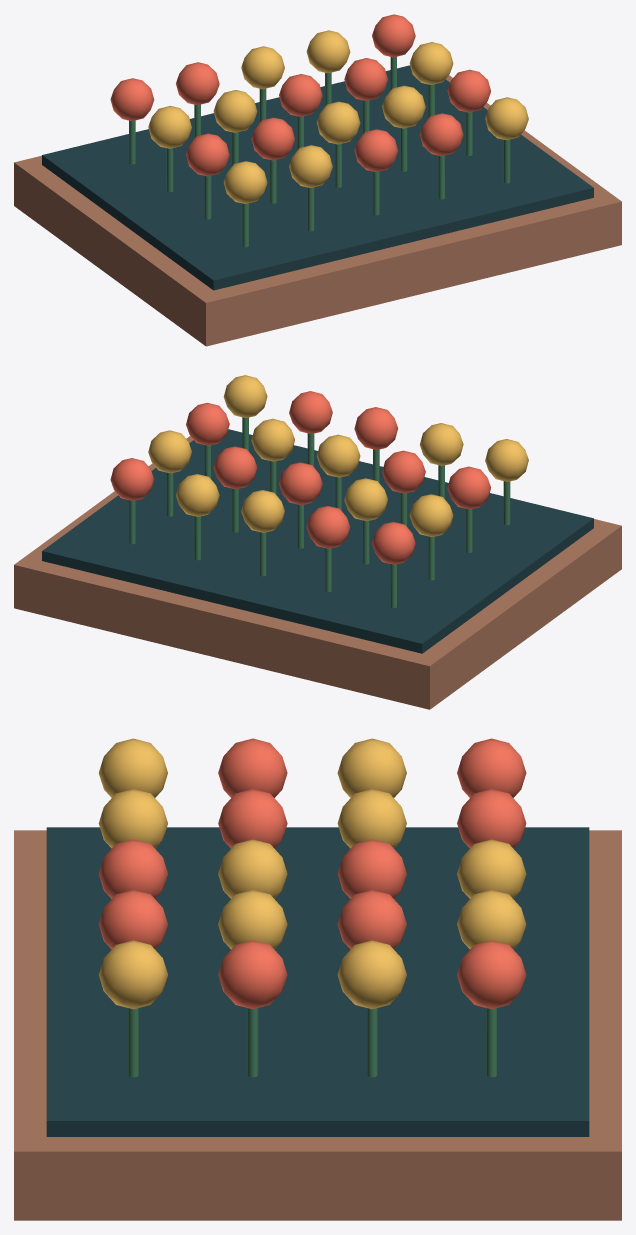
Rendered from deco_flowerbed.glb.
The picture shows the model from 3 angles, top to bottom: view 1: azimuth 30°, elevation 25°; view 2: azimuth 150°, elevation 25°; view 3: azimuth 270°, elevation 25°; orthographic projection. The views are drawn at different scales.
Visible parts, largest first — view 1: deco_flowerbed; view 2: deco_flowerbed; view 3: deco_flowerbed.
Part boxes in pixels (x1=…): deco_flowerbed: x1=14, y1=14, x2=621, y2=346; deco_flowerbed: x1=14, y1=375, x2=621, y2=709; deco_flowerbed: x1=14, y1=738, x2=621, y2=1220.
Bounding box in the file's own units: 3.5 × 1.1 × 2.8.
